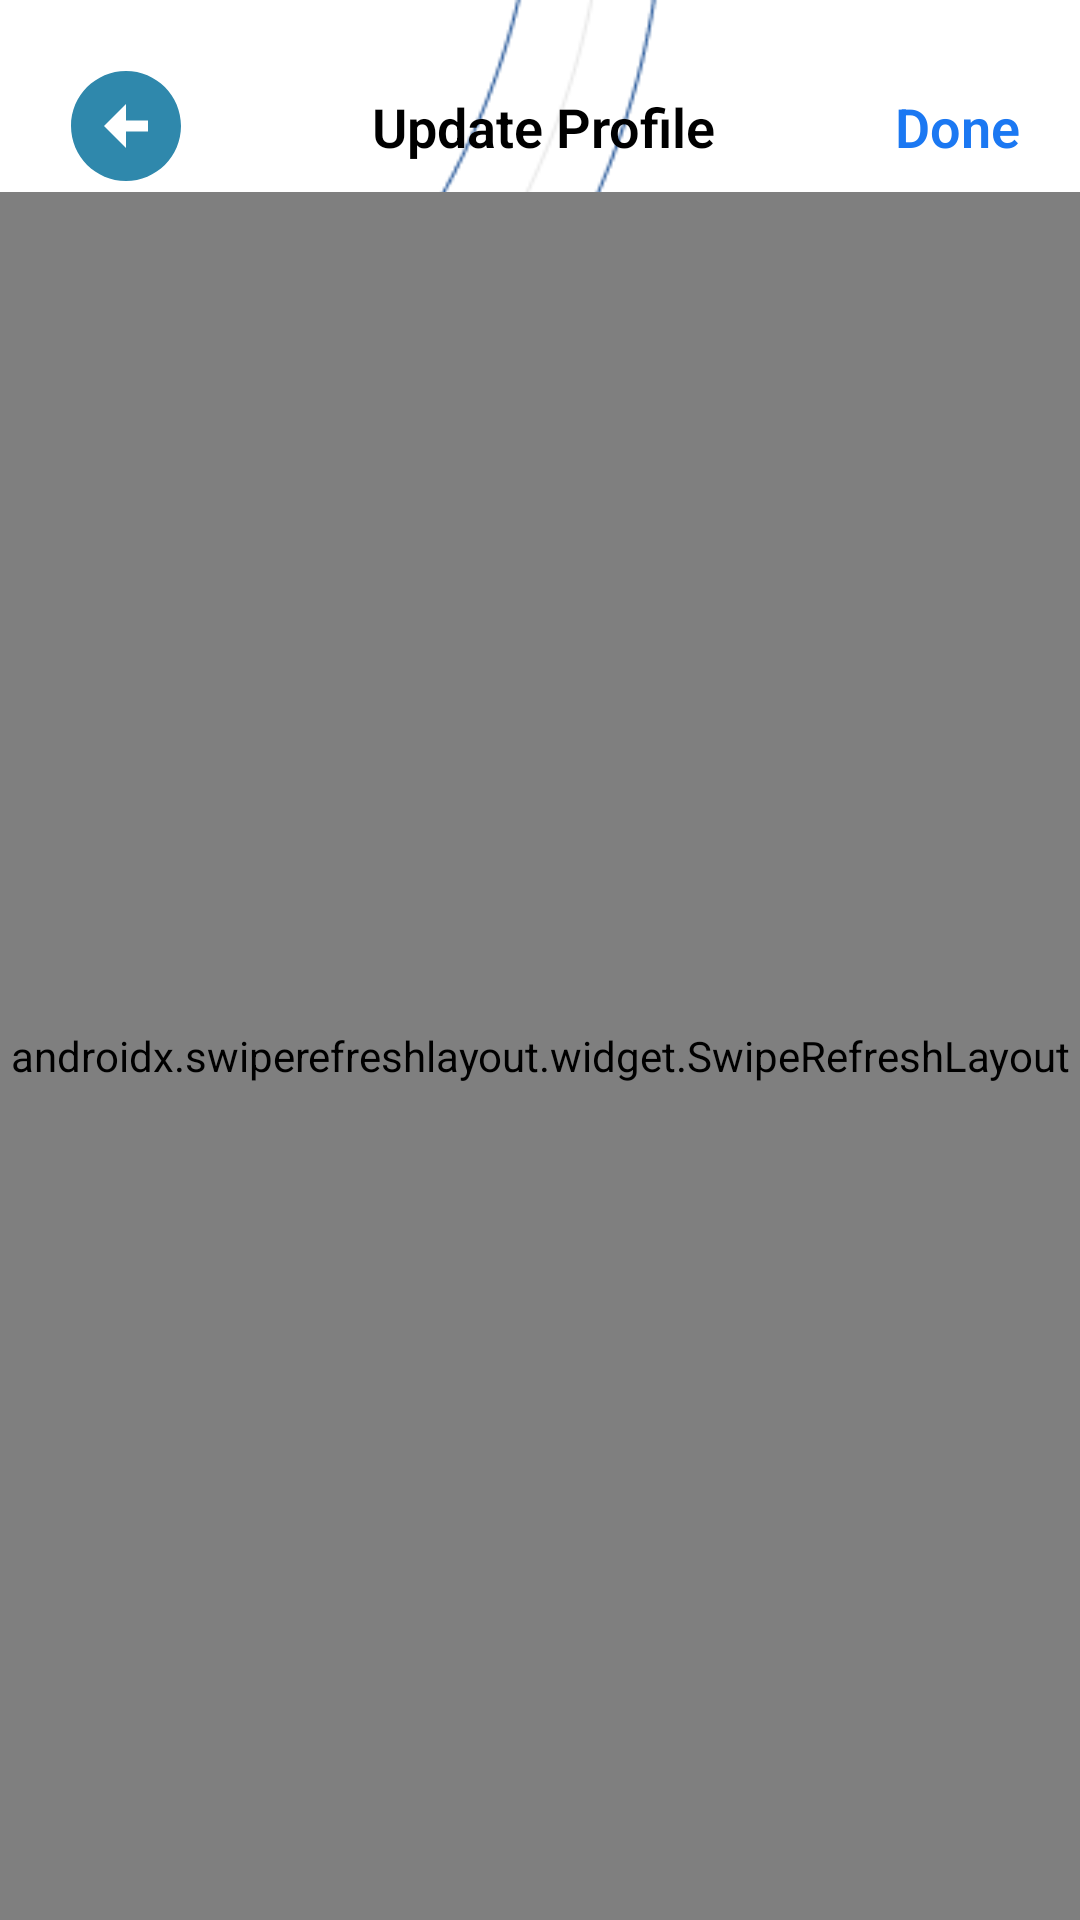

Icon bounding boxes for this 1080px×1920px phone screenshot, format [x1=x1, y1=y1, x2=x2, y2=y2]:
arrow back: [x1=71, y1=71, x2=181, y2=181]
